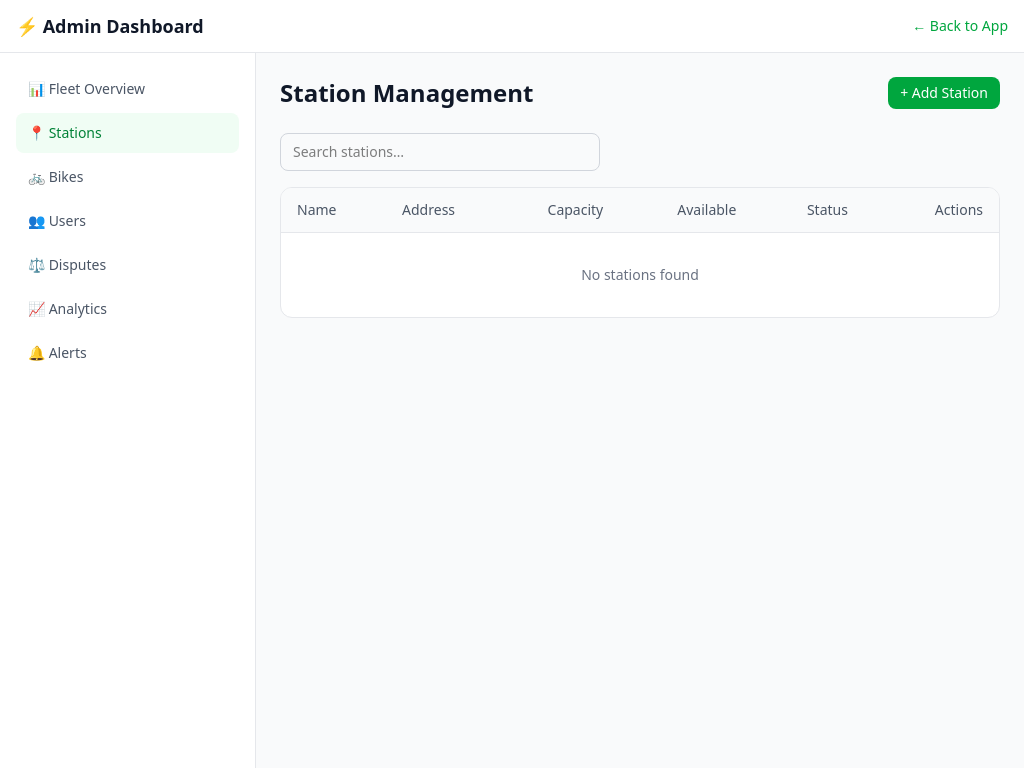
Test: StationManagement › validates form fields
The width and height of the screenshot is (1024, 768).
Expected: the heading "Station Management" is shown, 280,77 -> 534,109
Click the button "+ Add Station": (944, 93) 888,77 -> 1000,109
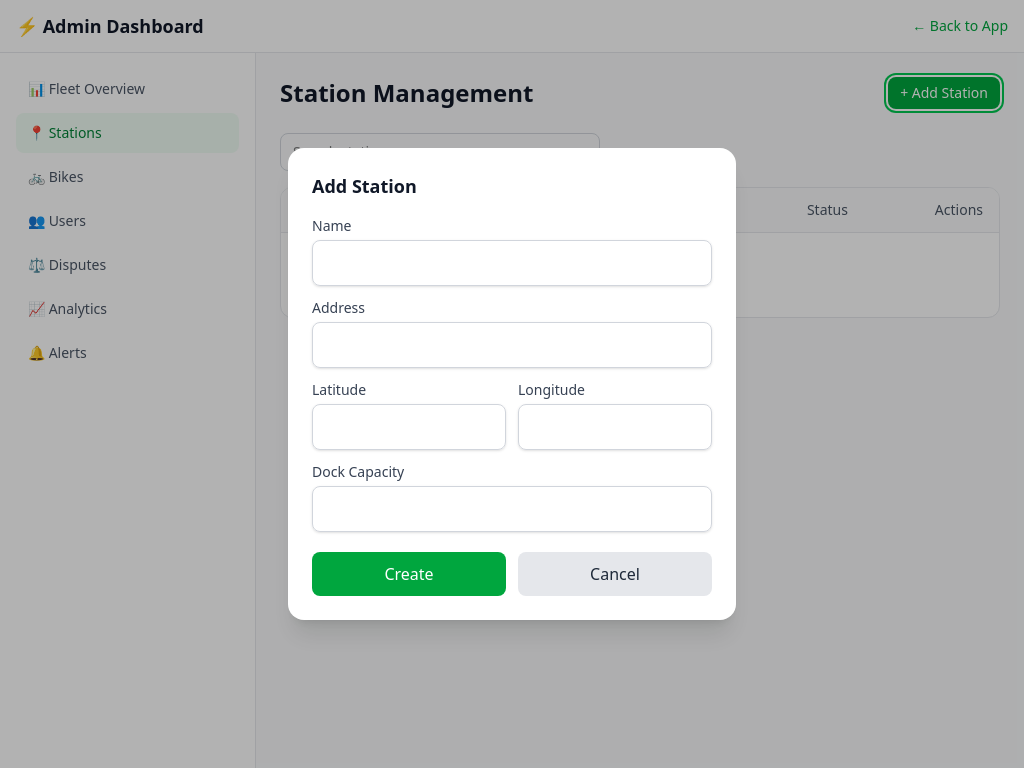
Expected: the heading "Add Station" is shown, 312,174 -> 417,198
# Submit empty form - use fireEvent.submit to bypass HTML5 required validation
Submit the form "Create", box 288,148 -> 736,620
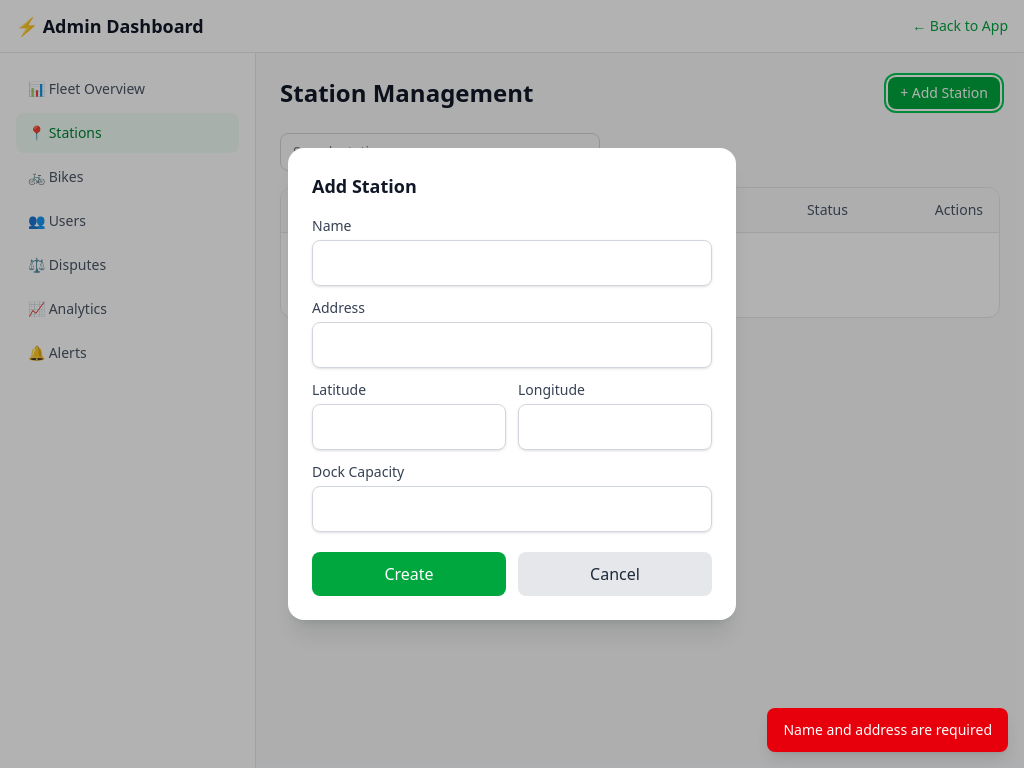
Expected: the button "Name and address are required" is shown, 767,708 -> 1008,752
